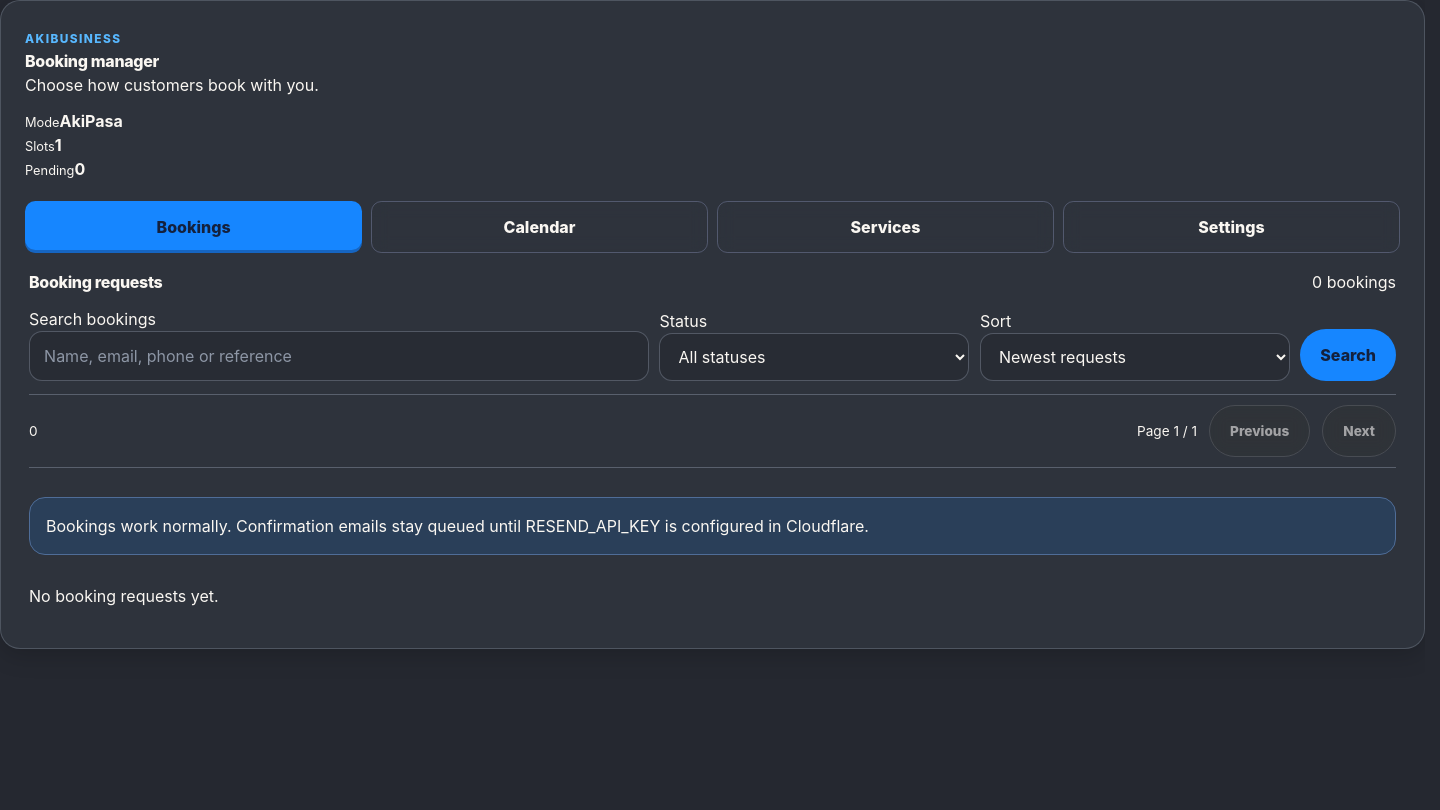
Test: AkiBusiness advanced booking manager › allows venue owners to choose recurring days and attach a resource
The image size is (1440, 810).
Click the button "Calendar" at (540, 227), box [371,201,708,253]
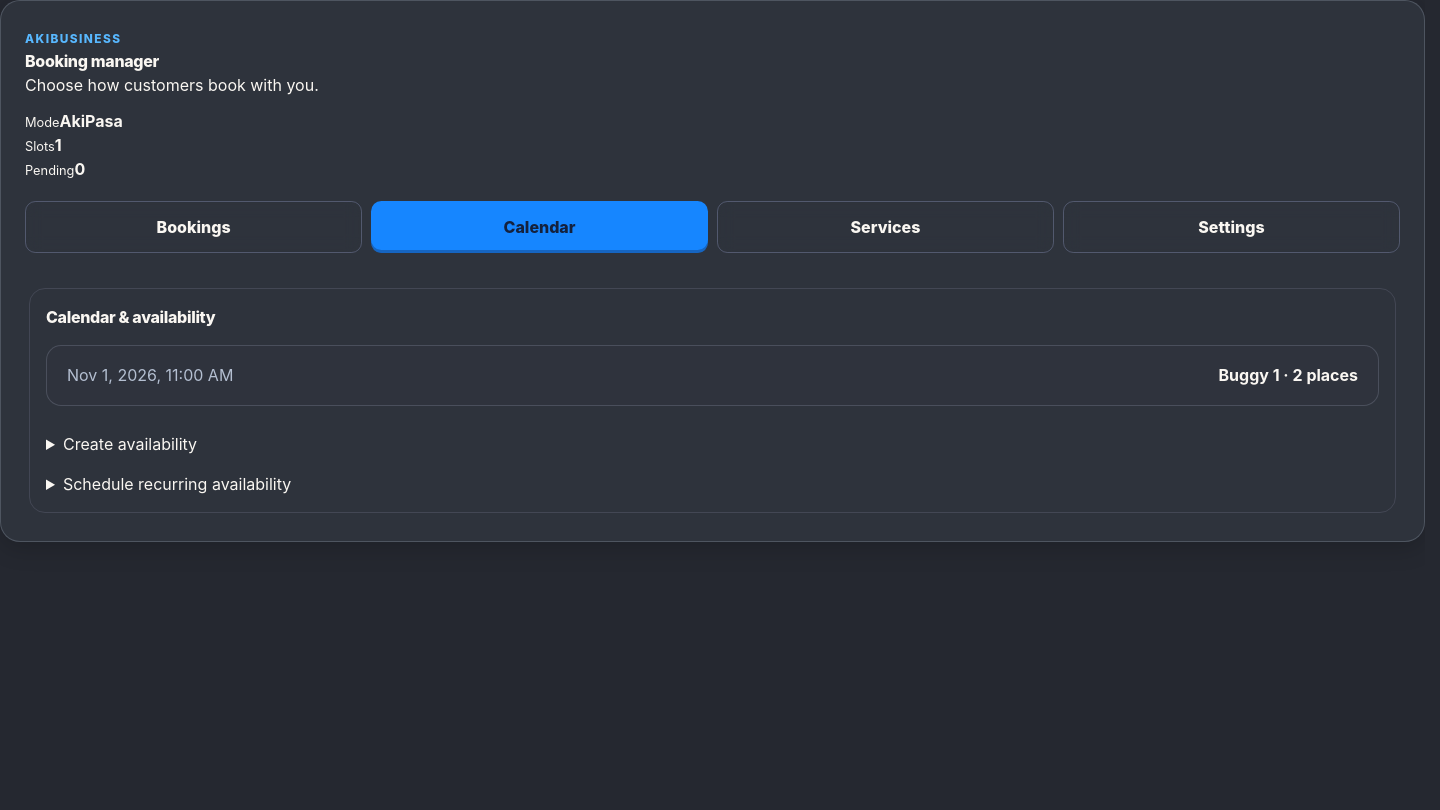
Click the heading "Schedule recurring availability" at (177, 484), box [63,474,291,494]
(page scrolled)
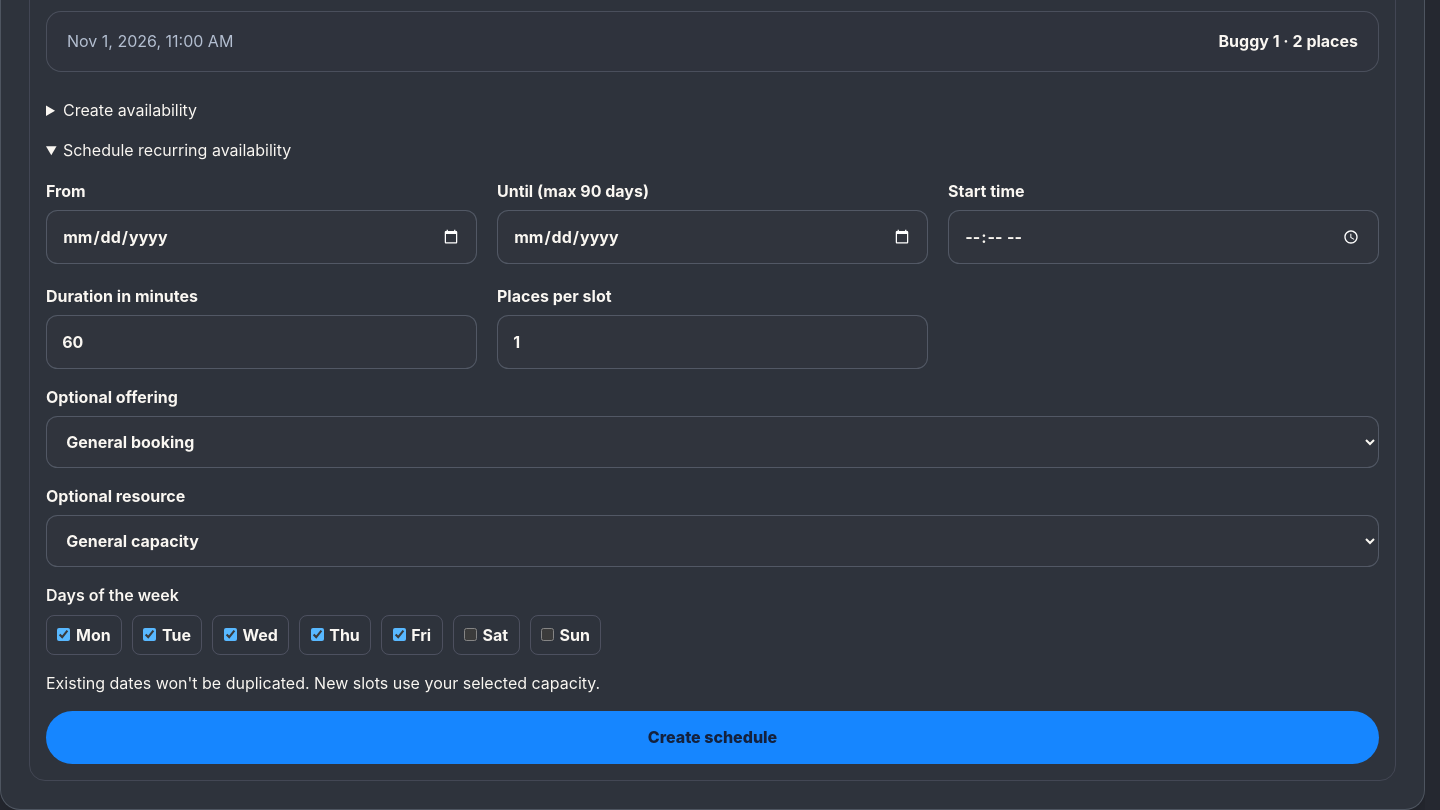
Expected: the date field labelled "From" is shown, [46,210,477,264]
Expected: the date field labelled "Until (max 90 days)" is shown, [497,210,928,264]
Expected: the checkbox labelled "Mon" is checked, [57,628,70,641]
